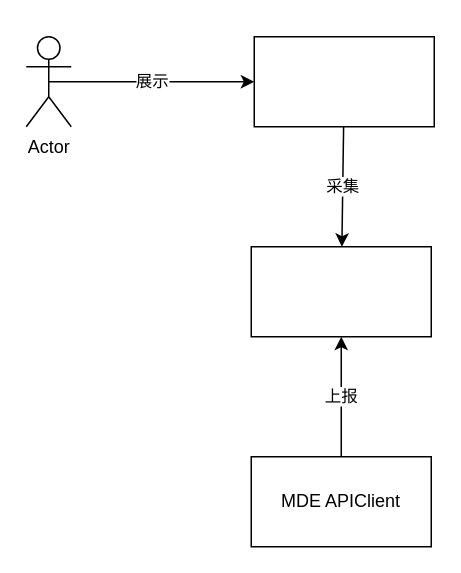
The diagram is 461 pixels wide and 573 high, and some of its shapes have lost their labels. The centre of each missing label's shape, as x and y in pixels:
"grafana" goes at pixel 343 81.
"prometheus" goes at pixel 340 291.
